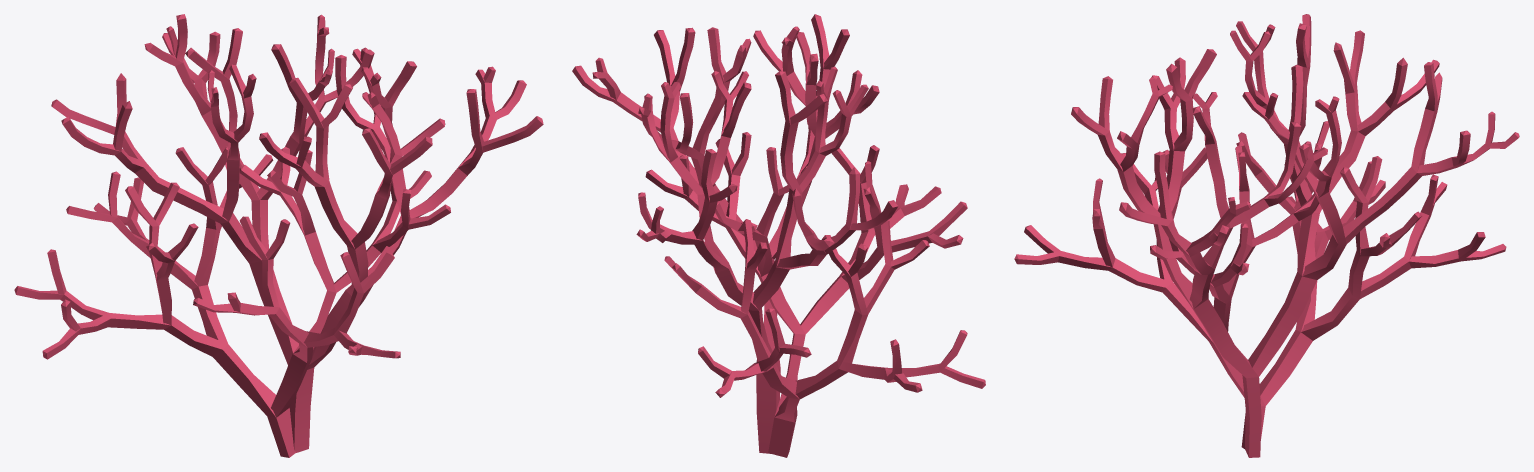
Rendered from coral_D_dense.fbx.
The picture shows the model from 3 angles, left to right: view 1: azimuth 30°, elevation 25°; view 2: azimuth 150°, elevation 25°; view 3: azimuth 270°, elevation 25°; orthographic projection.
Visible parts, largest first — view 1: coral_D_dense; view 2: coral_D_dense; view 3: coral_D_dense.
Boxes of the visible parts, bbox=[...] form: coral_D_dense: bbox=[14, 14, 543, 457]; coral_D_dense: bbox=[572, 14, 985, 457]; coral_D_dense: bbox=[1014, 14, 1519, 457].
Bounding box in the file's own units: 198 × 174 × 193.
